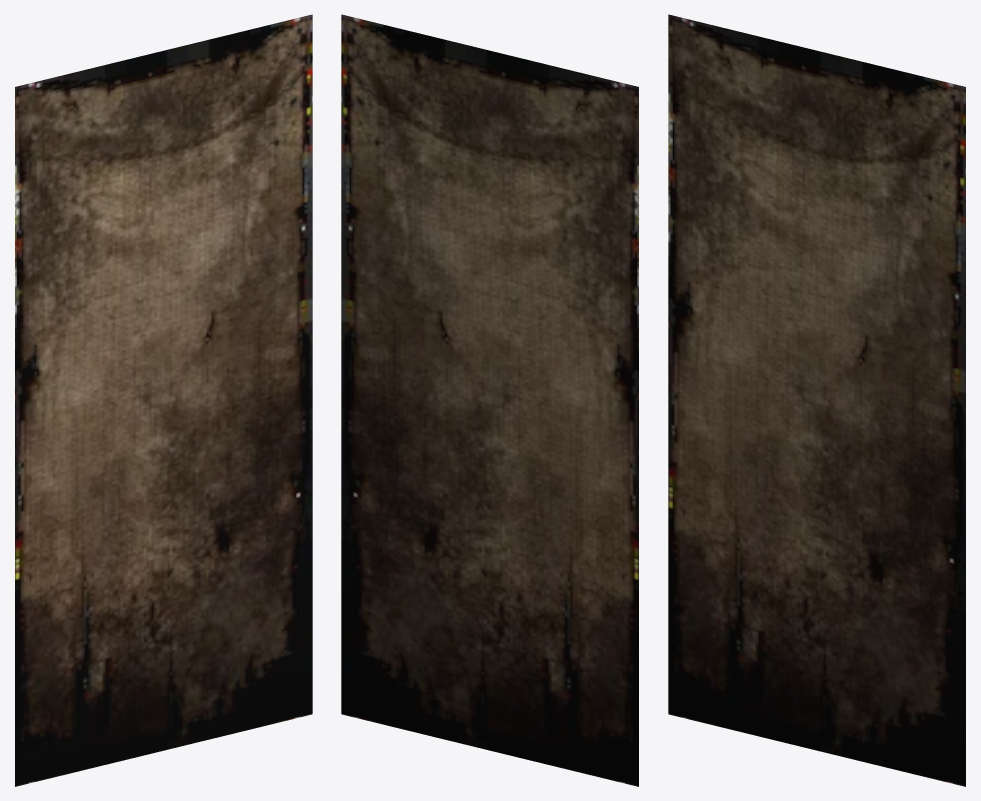
File: o_mdl_env_hangingRagsA-transformed.glb
The picture shows the model from 3 angles, left to right: view 1: azimuth 30°, elevation 25°; view 2: azimuth 150°, elevation 25°; view 3: azimuth 330°, elevation 25°; orthographic projection.
Visible parts, largest first — view 1: default; view 2: default; view 3: default.
Boxes of the visible parts, x1,y1,x2,y2 form: default: (15, 14, 312, 786); default: (341, 14, 638, 786); default: (668, 14, 965, 786).
Size of the model in its own units: 1.27 by 2.85 by 0.00418.
Materials: 1 (1 with a texture image).
